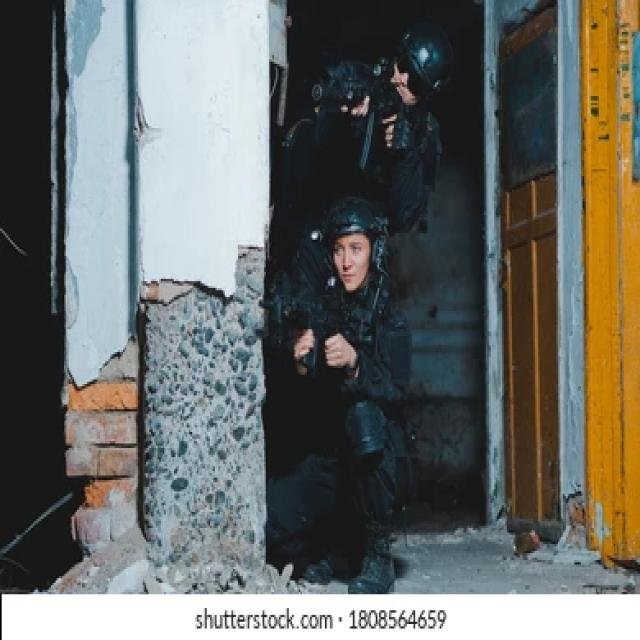soldier: (272, 186, 403, 592), (284, 26, 448, 208)
